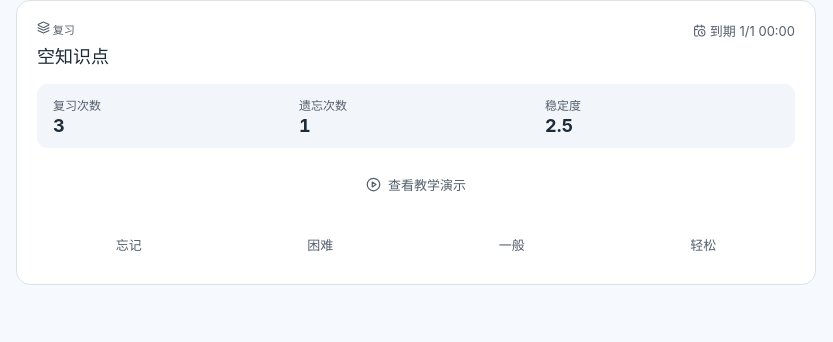
Test: TodayReviewList KP demonstration toggle › shows a graceful empty message when the KP has no demonstrations
Click the button "查看教学演示" at coordinates (416, 184), box [37,164,795,204]
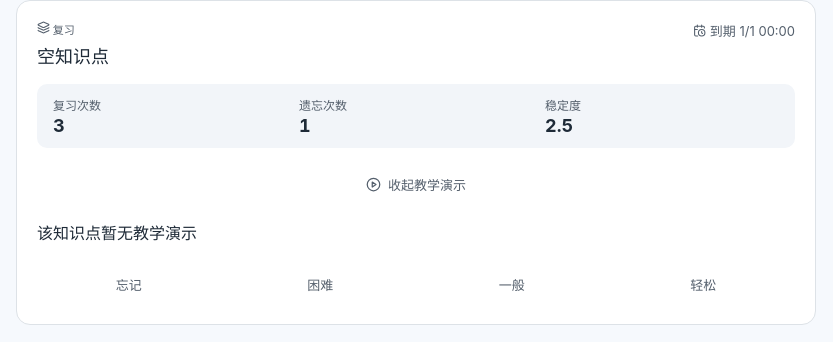
Expected: the text "该知识点暂无教学演示" is shown, [37,223,197,243]
